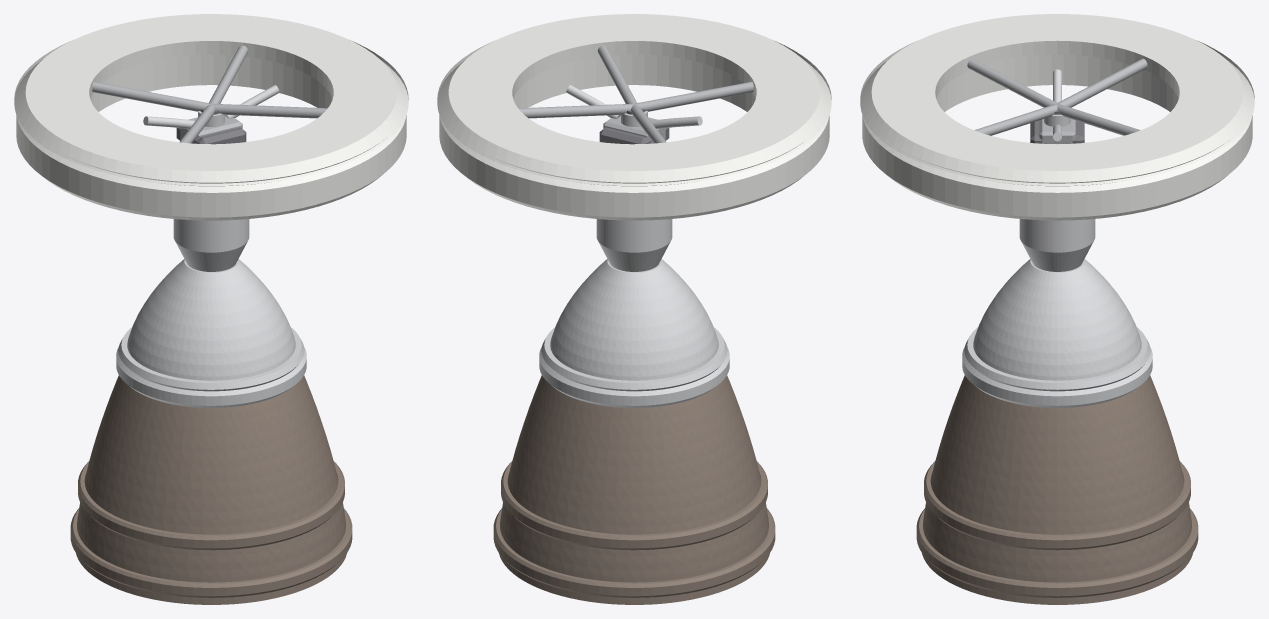
File: ax_prop_08_oms_hypergolic_xs.glb
3 views of the same model, side by side, from view 1: azimuth 30°, elevation 25°; view 2: azimuth 150°, elevation 25°; view 3: azimuth 270°, elevation 25° (orthographic).
Visible parts, largest first — view 1: nozzle_extension, mount_ring, thermal_blanket_ring, regen_nozzle, extension_hoops, thrust_struts, chamber, joint_flange, regen_manifold, plumbing, gimbal; view 2: nozzle_extension, mount_ring, thermal_blanket_ring, regen_nozzle, extension_hoops, thrust_struts, chamber, joint_flange, regen_manifold, plumbing, gimbal; view 3: nozzle_extension, mount_ring, thermal_blanket_ring, regen_nozzle, extension_hoops, thrust_struts, joint_flange, chamber, regen_manifold, valve_block.
Part boxes in pixels (<box>): nozzle_extension: <box>76,375,346,604</box>; mount_ring: <box>14,14,408,186</box>; thermal_blanket_ring: <box>16,54,406,220</box>; regen_nozzle: <box>127,259,295,380</box>; extension_hoops: <box>70,461,352,597</box>; thrust_struts: <box>92,45,327,143</box>; chamber: <box>173,219,249,271</box>; joint_flange: <box>116,347,306,407</box>; regen_manifold: <box>118,327,304,391</box>; plumbing: <box>143,85,279,128</box>; gimbal: <box>176,109,246,144</box>; nozzle_extension: <box>499,375,769,604</box>; mount_ring: <box>437,14,831,186</box>; thermal_blanket_ring: <box>439,54,829,220</box>; regen_nozzle: <box>550,259,718,380</box>; extension_hoops: <box>493,461,775,597</box>; thrust_struts: <box>518,45,753,143</box>; chamber: <box>596,219,672,271</box>; joint_flange: <box>539,347,729,407</box>; regen_manifold: <box>541,327,727,391</box>; plumbing: <box>566,85,702,128</box>; gimbal: <box>599,109,669,144</box>; nozzle_extension: <box>922,375,1192,604</box>; mount_ring: <box>860,14,1254,186</box>; thermal_blanket_ring: <box>862,54,1252,220</box>; regen_nozzle: <box>973,259,1141,380</box>; extension_hoops: <box>916,461,1198,597</box>; thrust_struts: <box>967,58,1147,135</box>; joint_flange: <box>962,347,1152,407</box>; chamber: <box>1019,219,1095,271</box>; regen_manifold: <box>964,327,1150,391</box>; valve_block: <box>1039,119,1075,144</box>.
Bounding box in the file's own units: 0.625 × 0.7952 × 0.6245.
